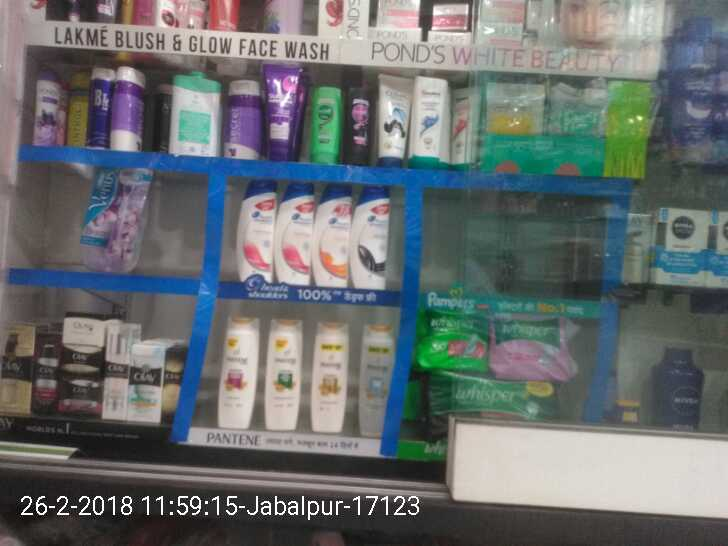venus: (80, 170, 153, 273)
